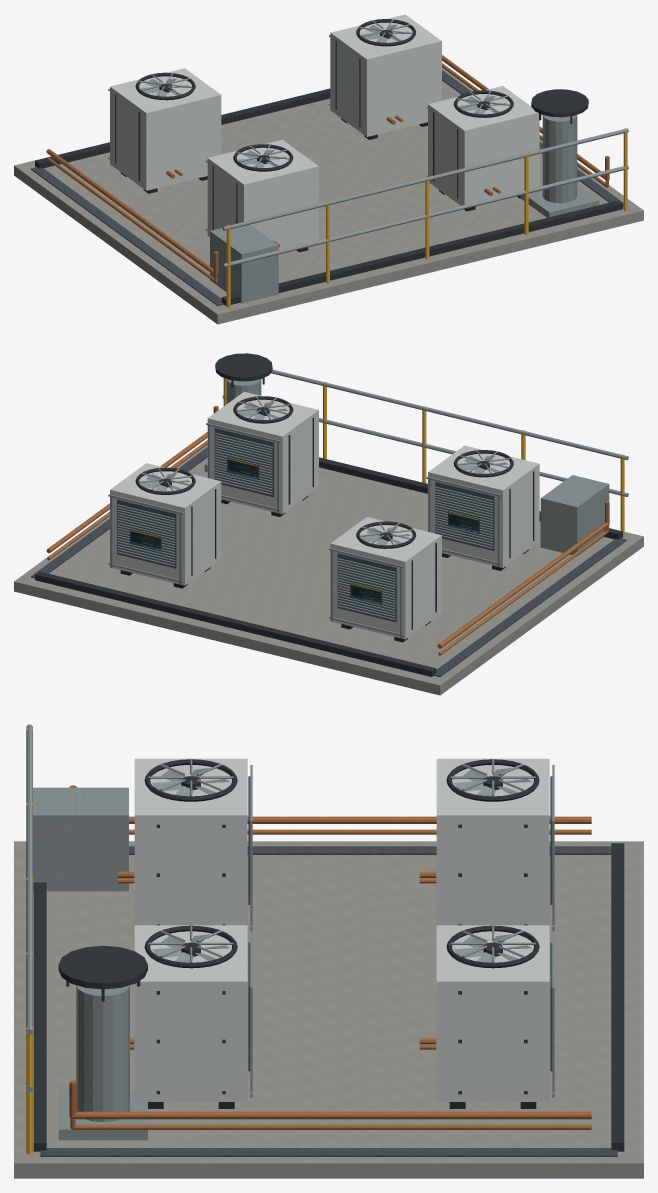
The picture shows the model from 3 angles, top to bottom: view 1: azimuth 30°, elevation 25°; view 2: azimuth 150°, elevation 25°; view 3: azimuth 270°, elevation 25°; orthographic projection. The views are drawn at different scales.
Visible parts, largest first — view 1: VIS_ROOF_CURB_BASE__concrete, VIS_CONDENSER_02_CASING__powdercoat, VIS_CONDENSER_00_CASING__powdercoat, VIS_CONDENSER_03_CASING__powdercoat, VIS_CONDENSER_01_CASING__powdercoat, VIS_MOUNTING_RUNNER__dark_steel, VIS_MAIN_DUCT__galvanized, VIS_BACK_SAFETY_RAIL__galvanized, VIS_REFRIGERANT_HEADER__copper, VIS_ROOF_VENT_RISER__galvanized, VIS_DRAIN_CHANNEL__grate, VIS_BACK_SAFETY_RAIL__safety_yellow (+6 smaller); view 2: VIS_ROOF_CURB_BASE__concrete, VIS_CONDENSER_02_CASING__powdercoat, VIS_CONDENSER_00_CASING__powdercoat, VIS_CONDENSER_01_CASING__powdercoat, VIS_CONDENSER_03_CASING__powdercoat, VIS_MOUNTING_RUNNER__dark_steel, VIS_MAIN_DUCT__galvanized, VIS_REFRIGERANT_HEADER__copper, VIS_DRAIN_CHANNEL__grate, VIS_BACK_SAFETY_RAIL__galvanized, VIS_CONDENSER_03_COIL__coil, VIS_CONDENSER_02_COIL__coil (+21 smaller); view 3: VIS_ROOF_CURB_BASE__concrete, VIS_CONDENSER_02_CASING__powdercoat, VIS_CONDENSER_03_CASING__powdercoat, VIS_CONDENSER_01_CASING__powdercoat, VIS_CONDENSER_00_CASING__powdercoat, VIS_REFRIGERANT_HEADER__copper, VIS_MAIN_DUCT__galvanized, VIS_MOUNTING_RUNNER__dark_steel, VIS_DRAIN_CHANNEL__grate, VIS_ROOF_VENT_RISER__galvanized, VIS_ROOF_VENT_RAIN_CAP__dark_steel, VIS_BACK_SAFETY_RAIL__galvanized (+10 smaller).
Part boxes in pixels (x1,y1,x2,y2): VIS_ROOF_CURB_BASE__concrete: (14,63,643,324); VIS_CONDENSER_02_CASING__powdercoat: (330,14,441,136); VIS_CONDENSER_00_CASING__powdercoat: (110,68,221,190); VIS_CONDENSER_03_CASING__powdercoat: (428,86,539,205); VIS_CONDENSER_01_CASING__powdercoat: (207,139,318,249); VIS_MOUNTING_RUNNER__dark_steel: (35,88,622,305); VIS_MAIN_DUCT__galvanized: (210,224,278,303); VIS_BACK_SAFETY_RAIL__galvanized: (222,128,628,267); VIS_REFRIGERANT_HEADER__copper: (46,55,609,283); VIS_ROOF_VENT_RISER__galvanized: (542,115,577,203); VIS_DRAIN_CHANNEL__grate: (31,70,623,306); VIS_BACK_SAFETY_RAIL__safety_yellow: (226,128,627,307); VIS_ROOF_CURB_BASE__concrete: (14,440,643,695); VIS_CONDENSER_02_CASING__powdercoat: (110,463,221,585); VIS_CONDENSER_00_CASING__powdercoat: (330,517,441,639); VIS_CONDENSER_01_CASING__powdercoat: (428,445,539,567); VIS_CONDENSER_03_CASING__powdercoat: (207,391,318,514); VIS_MOUNTING_RUNNER__dark_steel: (35,457,622,676); VIS_MAIN_DUCT__galvanized: (540,475,609,556); VIS_REFRIGERANT_HEADER__copper: (46,406,609,655); VIS_DRAIN_CHANNEL__grate: (31,447,626,677); VIS_BACK_SAFETY_RAIL__galvanized: (222,369,628,496); VIS_CONDENSER_03_COIL__coil: (214,428,274,497); VIS_CONDENSER_02_COIL__coil: (117,499,176,568); VIS_ROOF_CURB_BASE__concrete: (14,841,643,1178); VIS_CONDENSER_02_CASING__powdercoat: (436,925,549,1101); VIS_CONDENSER_03_CASING__powdercoat: (134,925,247,1101); VIS_CONDENSER_01_CASING__powdercoat: (134,758,247,925); VIS_CONDENSER_00_CASING__powdercoat: (436,758,549,925); VIS_REFRIGERANT_HEADER__copper: (69,785,591,1129); VIS_MAIN_DUCT__galvanized: (33,787,128,891); VIS_MOUNTING_RUNNER__dark_steel: (33,843,624,1151); VIS_DRAIN_CHANNEL__grate: (40,846,617,1156); VIS_ROOF_VENT_RISER__galvanized: (76,985,129,1122); VIS_ROOF_VENT_RAIN_CAP__dark_steel: (58,945,147,989); VIS_BACK_SAFETY_RAIL__galvanized: (26,724,32,1092).
Bounding box in the file's own units: 5.8 × 1.45 × 4.8.
Materials: 10 (10 with a texture image).
